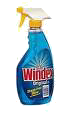grozi_26: (15, 5, 53, 105)
